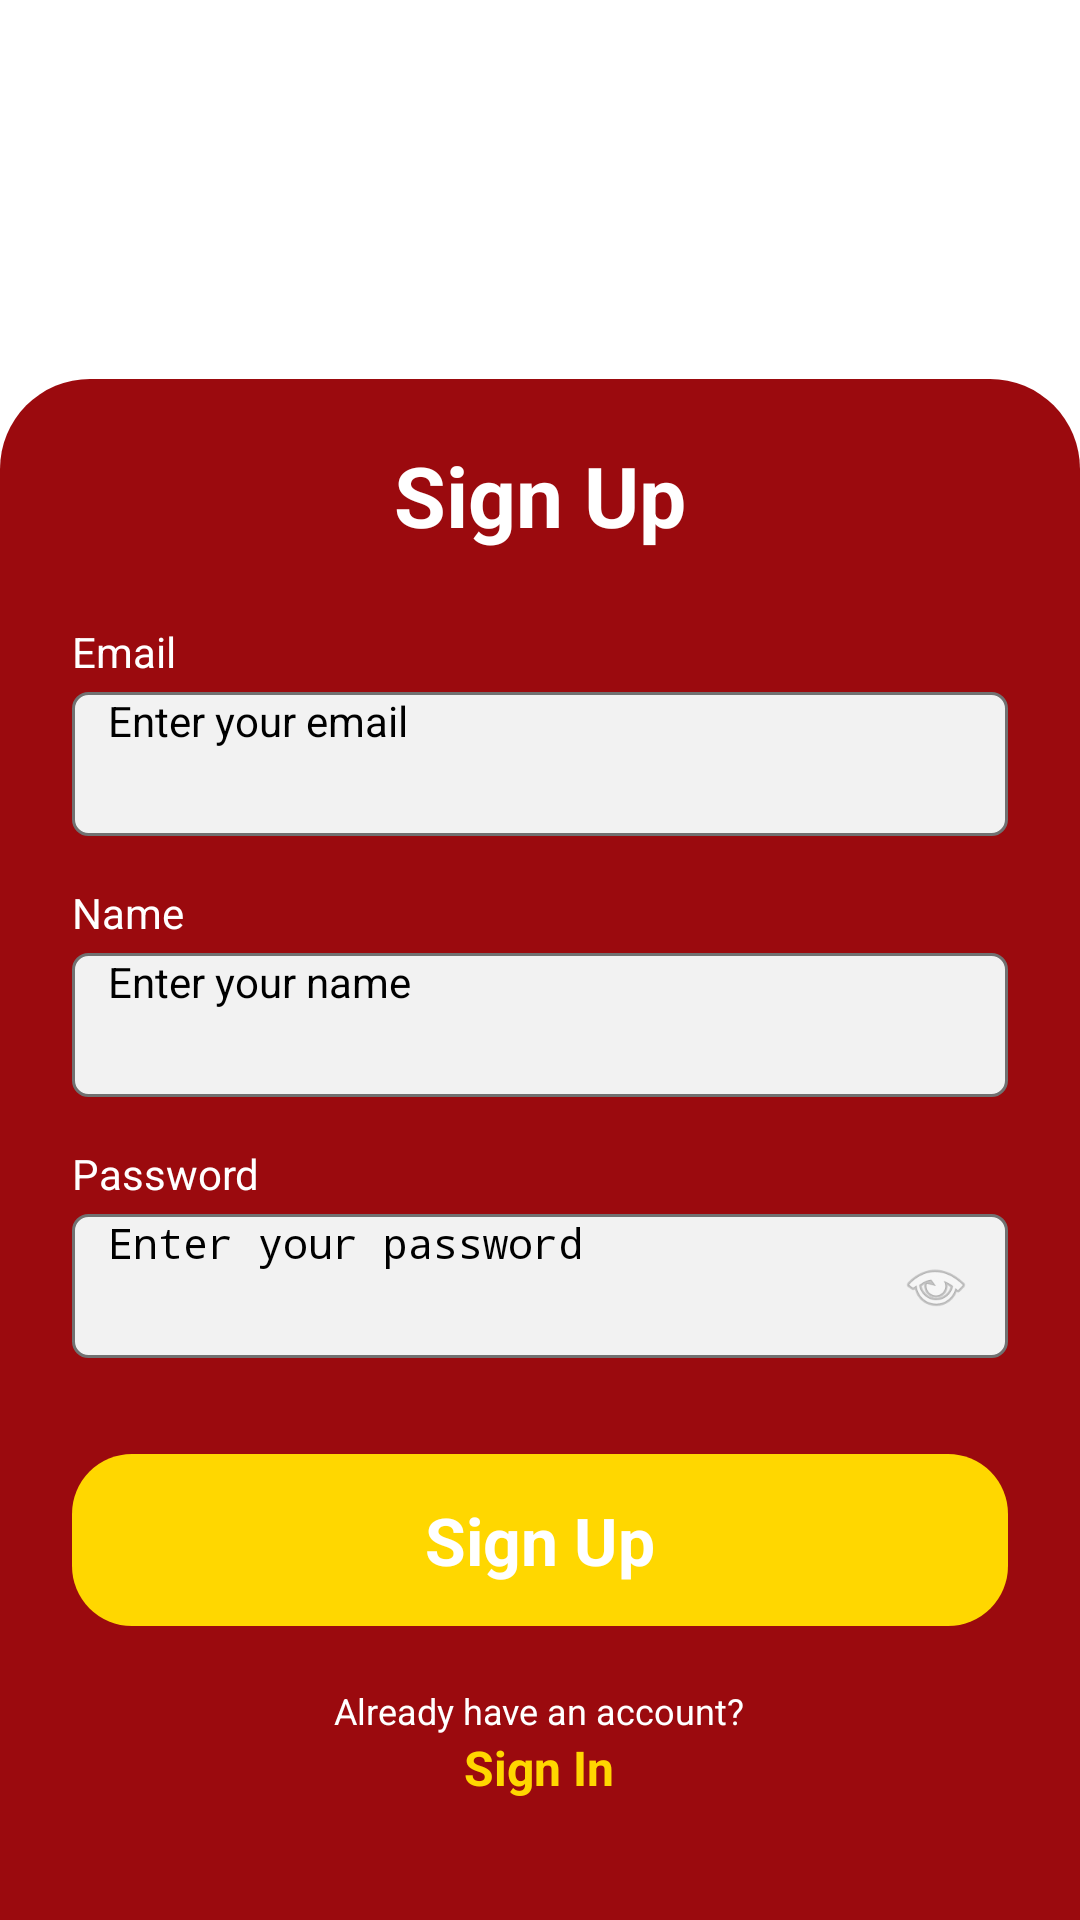

Point at icon controls on the screen. Image size 1080×1920, points as [x,y].
view: [936,1288]
